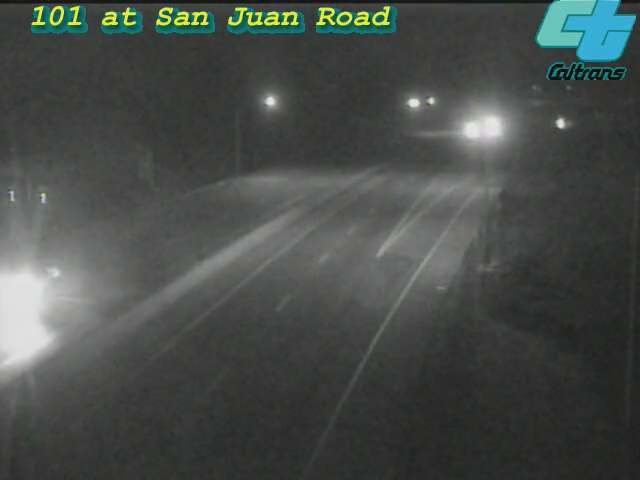vehicle: (1, 250, 59, 330), (535, 99, 585, 149), (447, 105, 497, 155), (465, 102, 515, 152)
